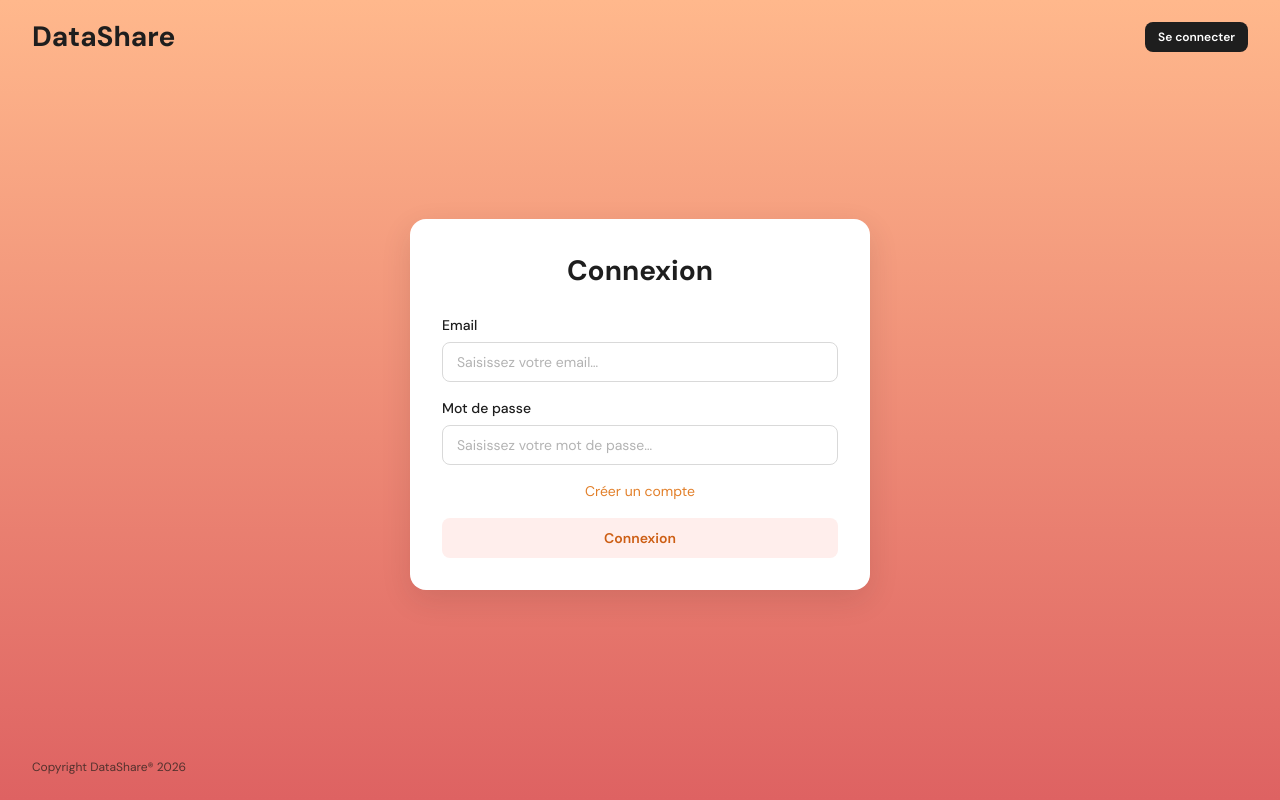
Scenario: LoginPage › refuse un email mal formé
Type "pasunemail" into the field labelled "Email" at (640, 362), box [442,342,838,382]
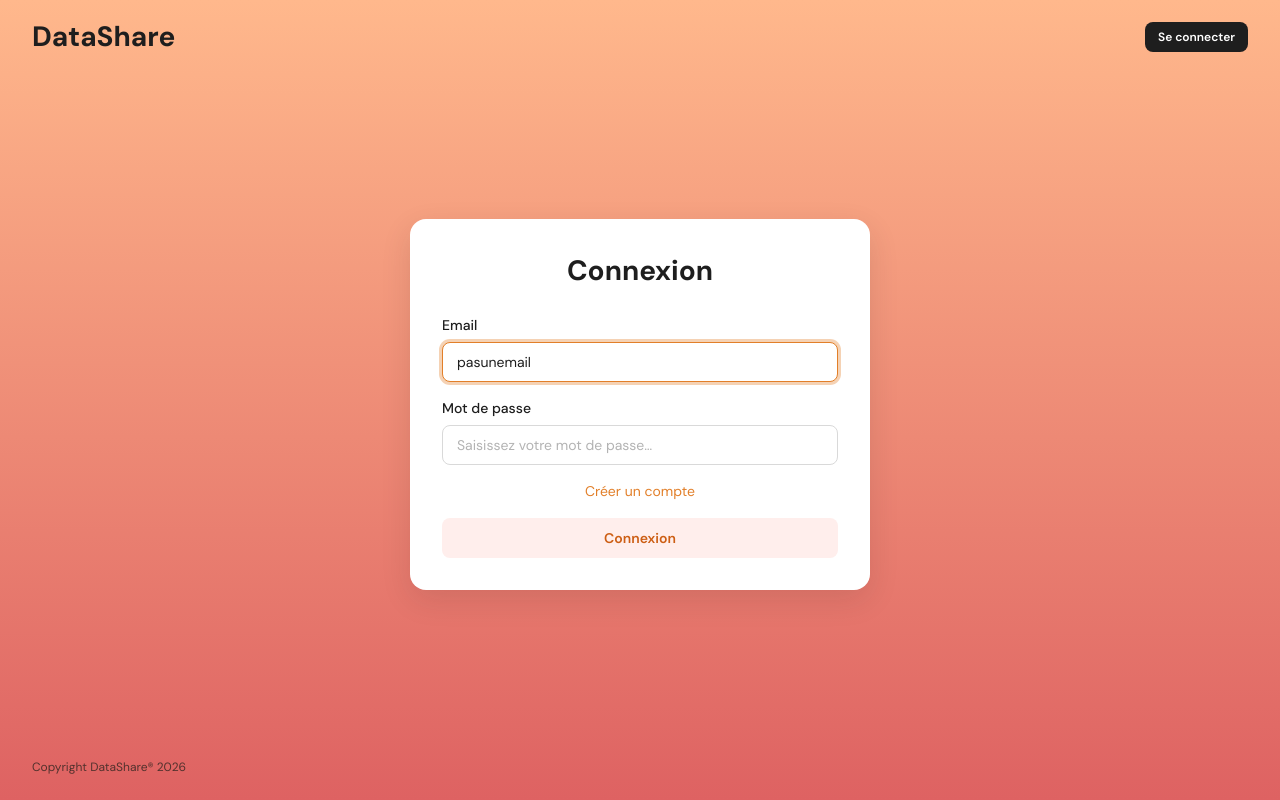
Type "motdepasse" into the password field labelled "Mot de passe" at (640, 444), box [442,424,838,464]
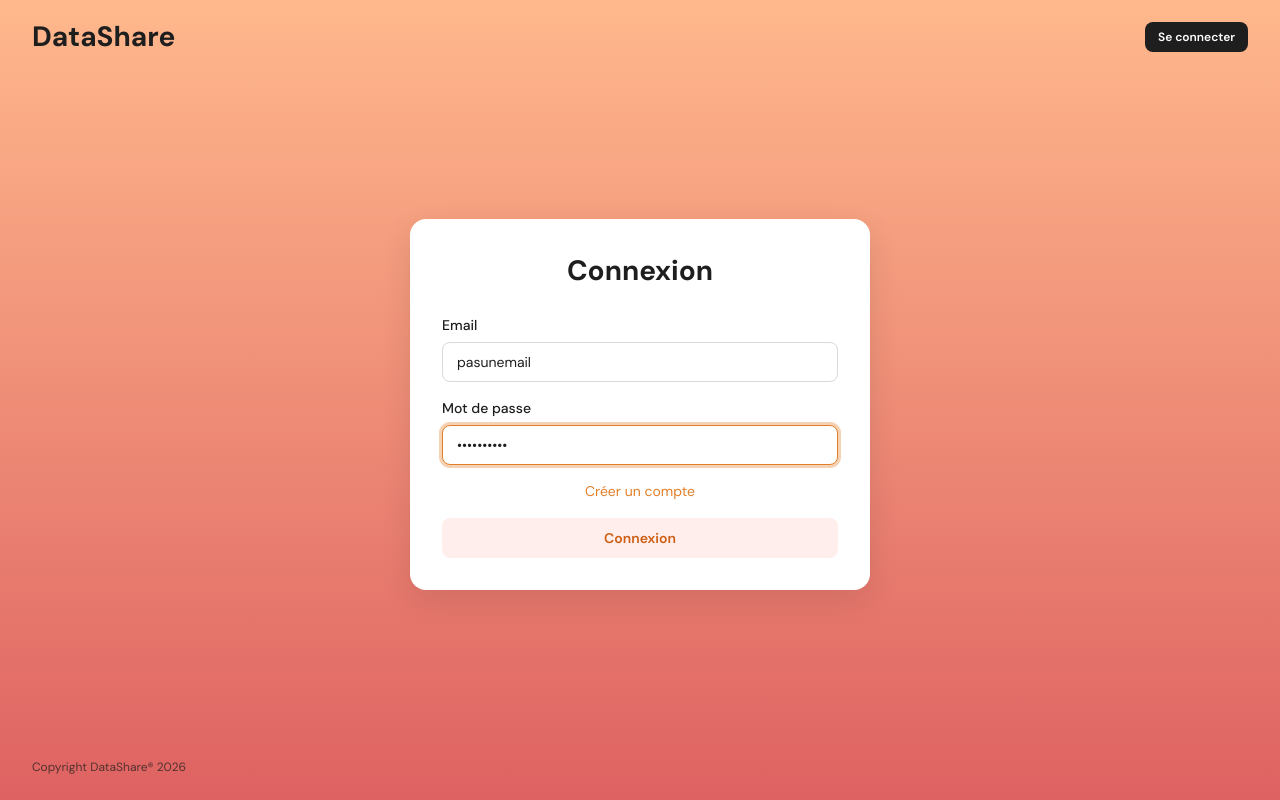
Click the button "Connexion" at (640, 538), box [442,518,838,558]
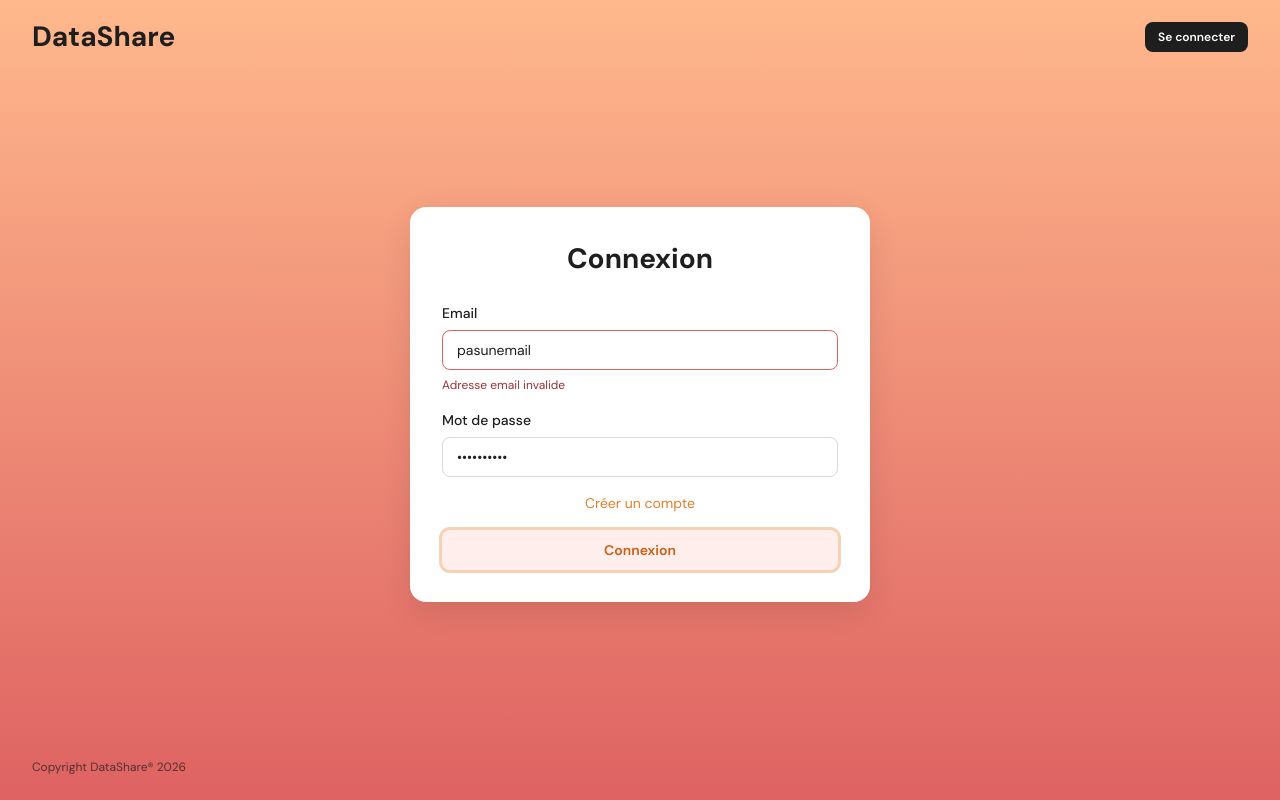
Expected: the text "Adresse email invalide" is shown, [442,376,565,392]
